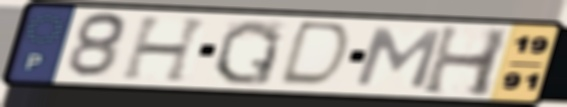8: (62, 11, 131, 82)
D: (274, 19, 356, 90)
H: (418, 23, 514, 99), (118, 15, 214, 84)
M: (350, 26, 445, 92)
Q: (210, 18, 286, 87)
